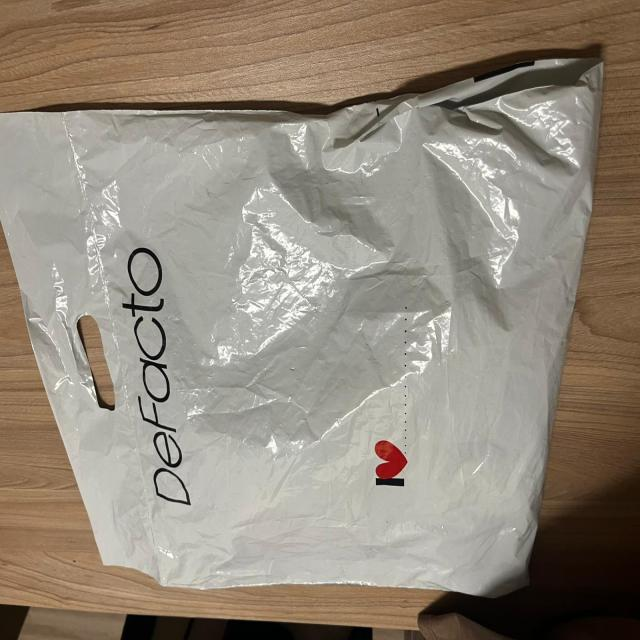good_package: (0, 56, 621, 601)
